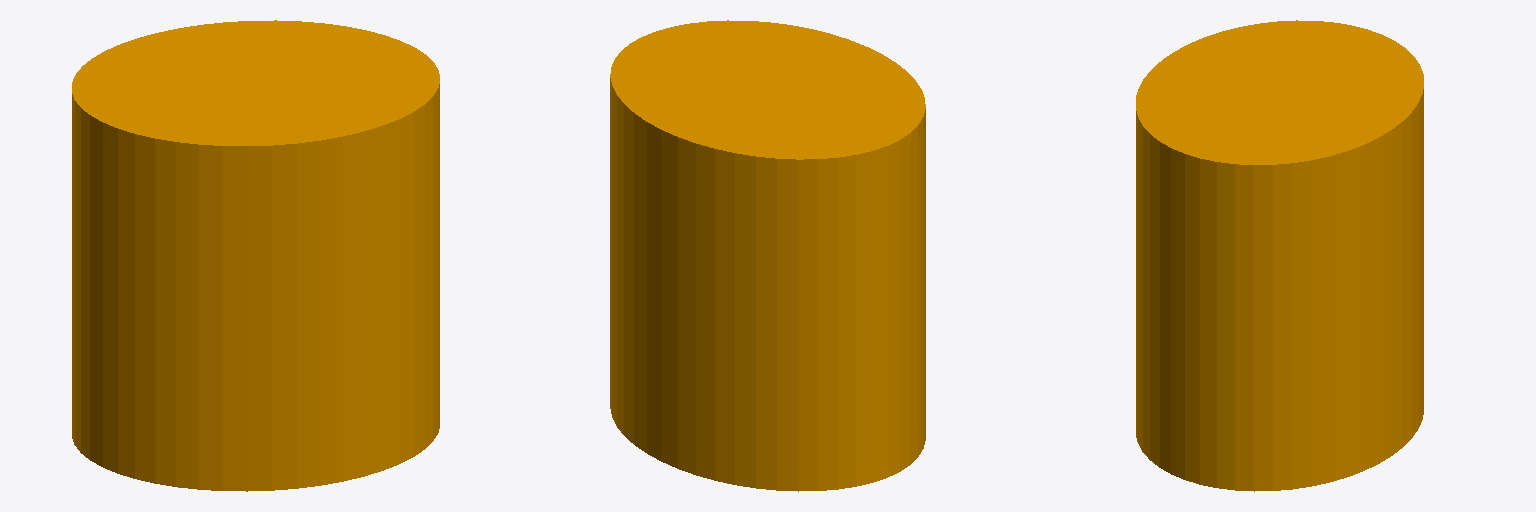
URDF robot description (object):
<?xml version="1.0"?>
<robot name="object">
  <link name="object">
    <visual>
      <origin xyz="0 0 0"/>
      <geometry>
        <mesh filename="meshes/generated/col_025.obj" scale="0.03 0.03 0.03"/>
      </geometry>
    </visual>
    <collision>
      <origin xyz="0 0 0"/>
      <geometry>
        <mesh filename="meshes/generated/col_025.obj" scale="0.03 0.03 0.03"/>
      </geometry>
    </collision>
    <inertial>
      <density value="1000.0"/>
    </inertial>
  </link>
</robot>

--- Facts derived from the render (not from the file) ---
Views: 3 orthographic renders of the robot side by side, from view 1: azimuth 30°, elevation 25°; view 2: azimuth 150°, elevation 25°; view 3: azimuth 270°, elevation 25°.
Robot: object — 1 links, 0 joints (none); root link object; default pose: every joint at zero.
Visible links, largest first — view 1: object; view 2: object; view 3: object.
Boxes of the visible links, x1,y1,x2,y2 form: object: (72,20,439,491); object: (610,20,925,491); object: (1136,20,1423,491).
Bounding box of the posed robot: 0.0571 × 0.0482 × 0.06 m (x, y, z).
Meshes: 1 distinct files referenced, 1 mesh visuals loaded (1 OBJ).
